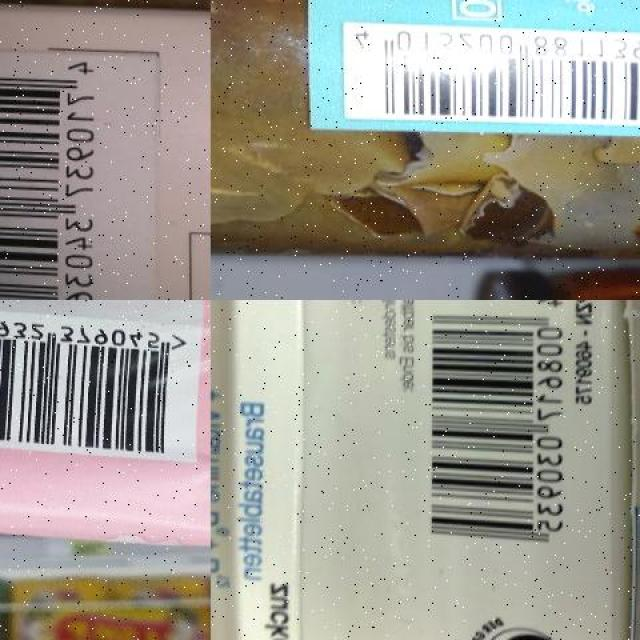Barcode: (421, 300, 571, 549), (341, 20, 640, 127), (0, 49, 120, 300), (0, 311, 195, 453)
